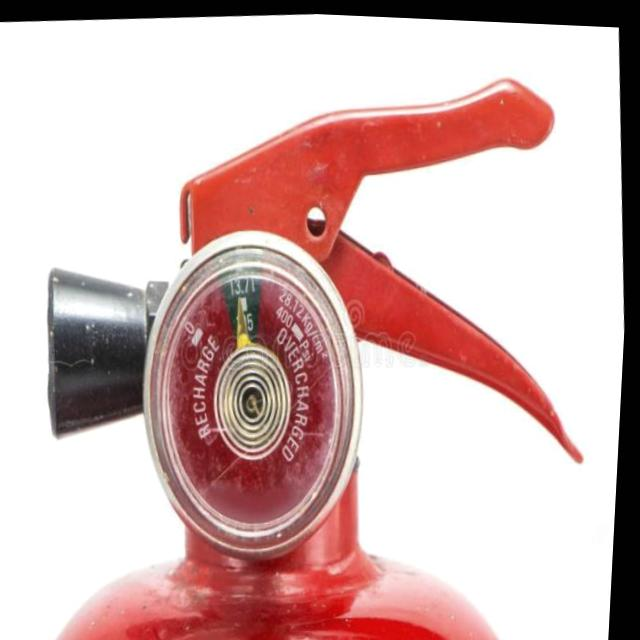FireExtinguisher: (0, 43, 620, 640)
